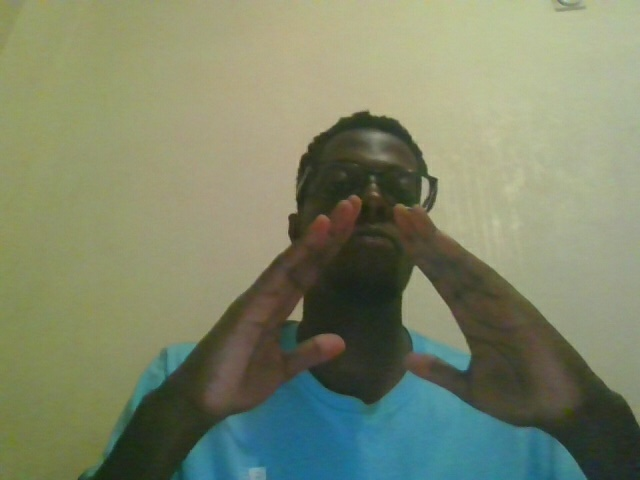Thanks: (155, 191, 621, 480)
